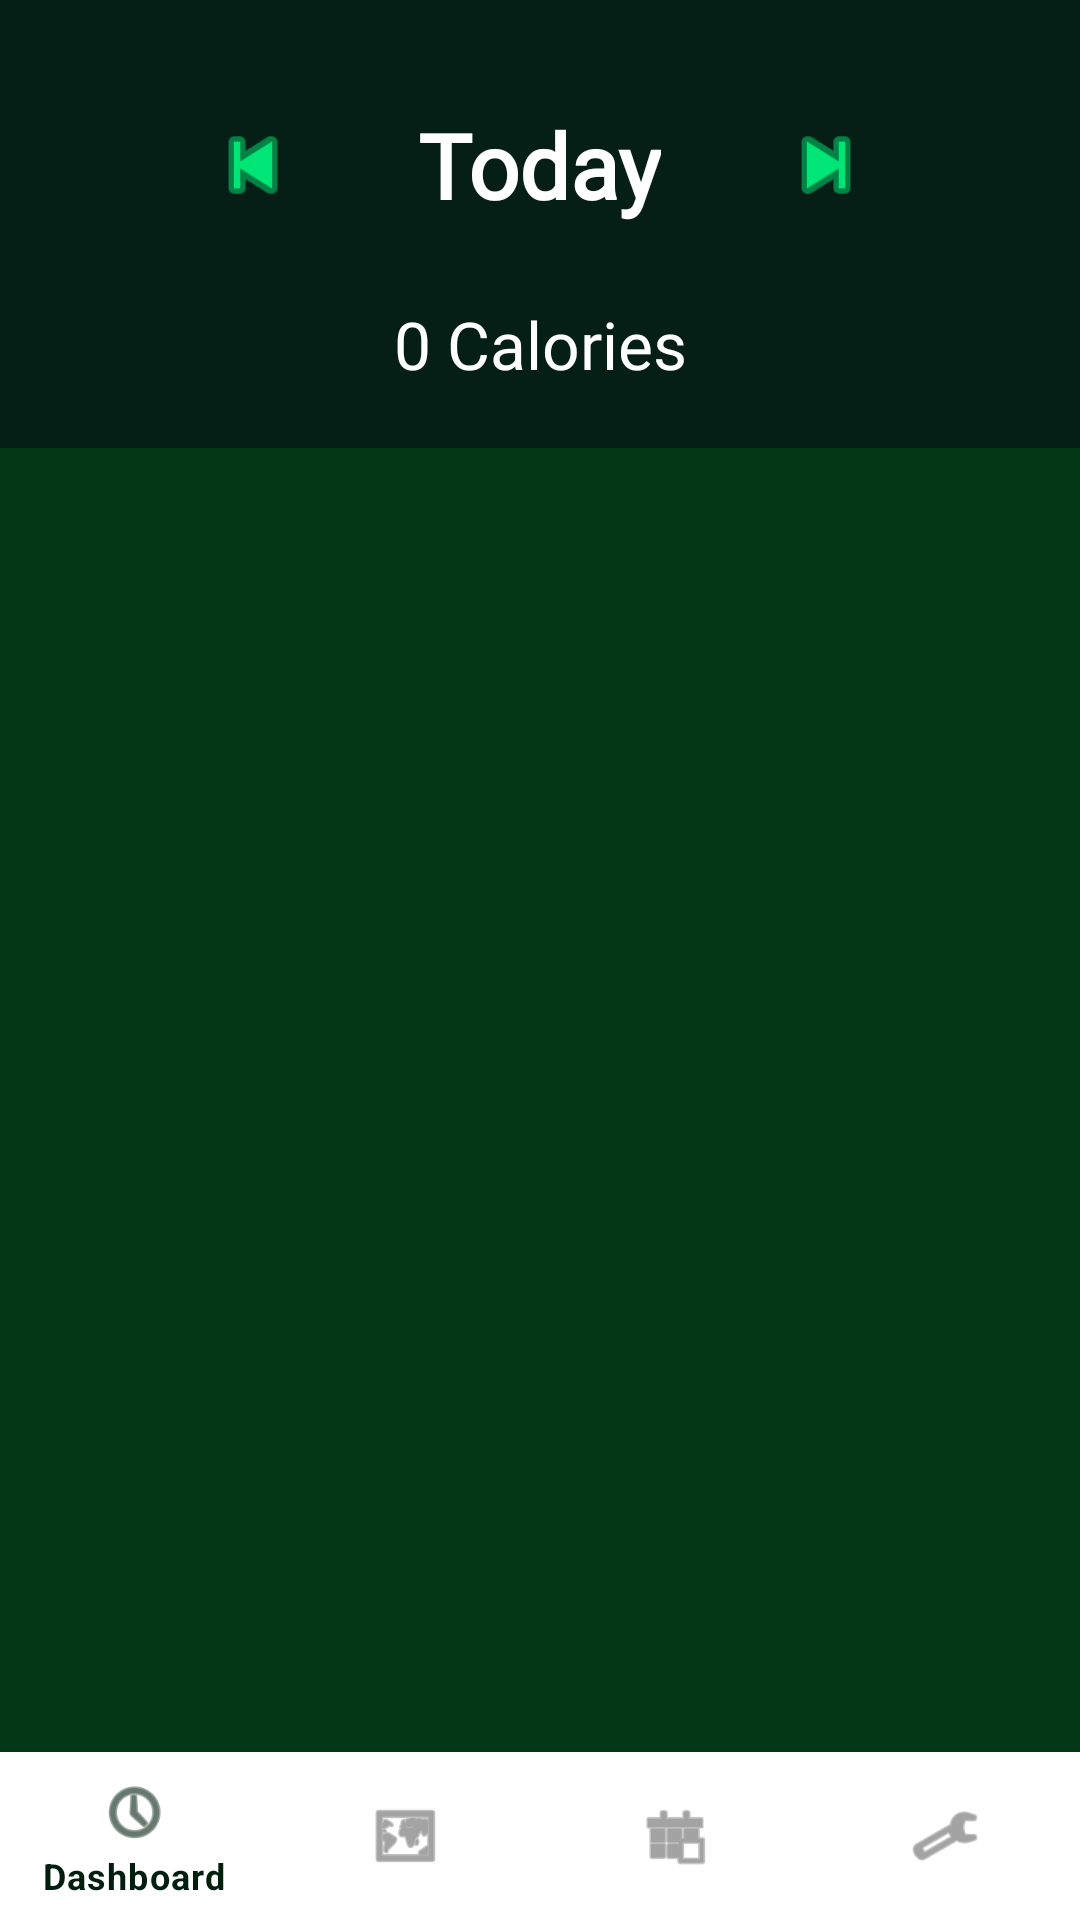

Icon click points for this 1080×1920 phone screenshot, format point (x, y):
Back to previous day: point (253, 165)
Forward to next day: point (826, 165)
